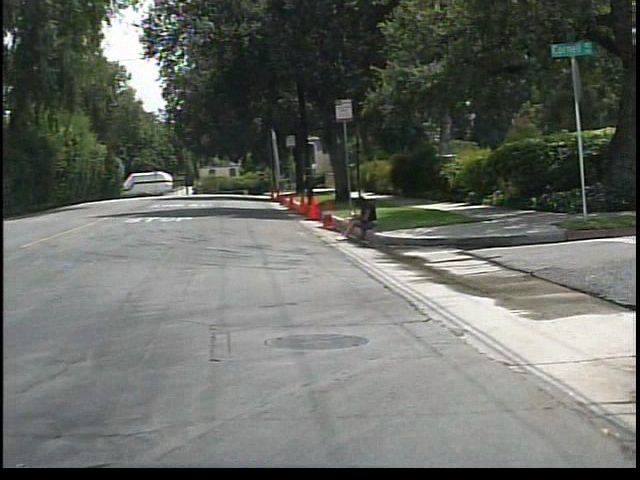person: (334, 192, 388, 245)
